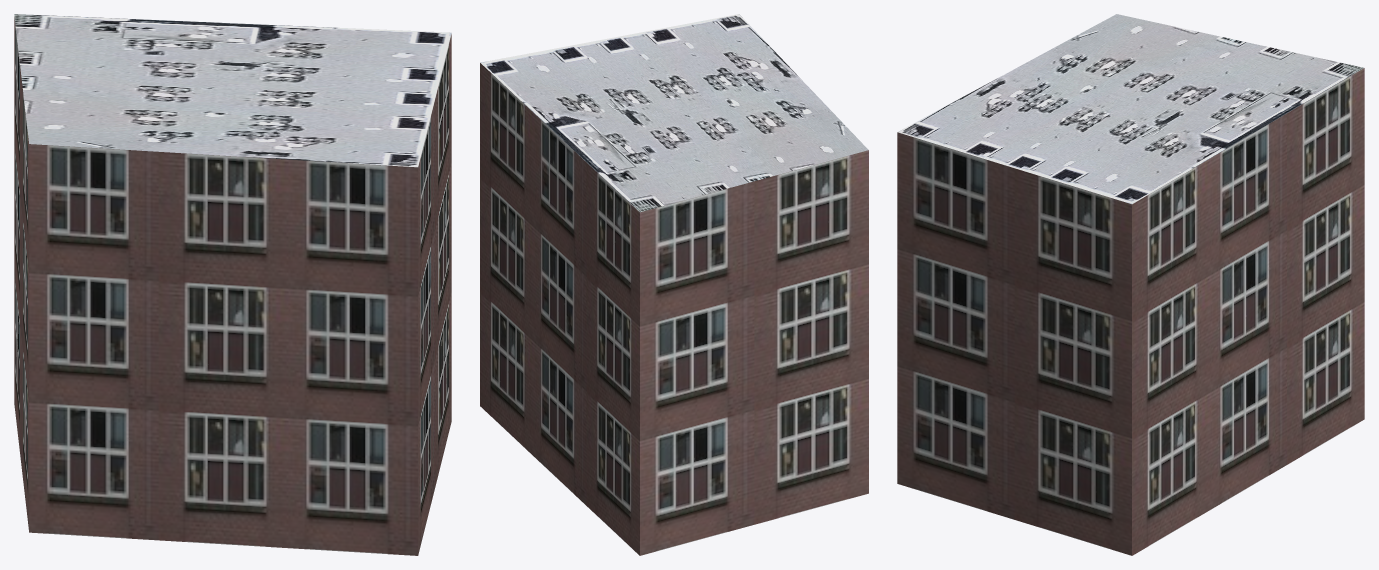
Rendered from ResTex__3930.fbx.
3 renders of one model, left to right at view 1: azimuth 30°, elevation 25°; view 2: azimuth 150°, elevation 25°; view 3: azimuth 270°, elevation 25°, orthographic. The views are drawn at different scales.
Parts seen in each view (by area): view 1: CityEngineMaterial_12_m, CityEngineMaterial_4_m; view 2: CityEngineMaterial_12_m, CityEngineMaterial_4_m; view 3: CityEngineMaterial_12_m, CityEngineMaterial_4_m.
Part boxes in pixels (x1,y1,x2,y2): CityEngineMaterial_12_m: (14,17,451,555); CityEngineMaterial_4_m: (14,14,451,167); CityEngineMaterial_12_m: (480,63,868,555); CityEngineMaterial_4_m: (480,14,868,212); CityEngineMaterial_12_m: (897,68,1364,555); CityEngineMaterial_4_m: (898,14,1363,204).
Size of the model in its own units: 10.45 by 9 by 10.84.
2 materials, 2 textured.
